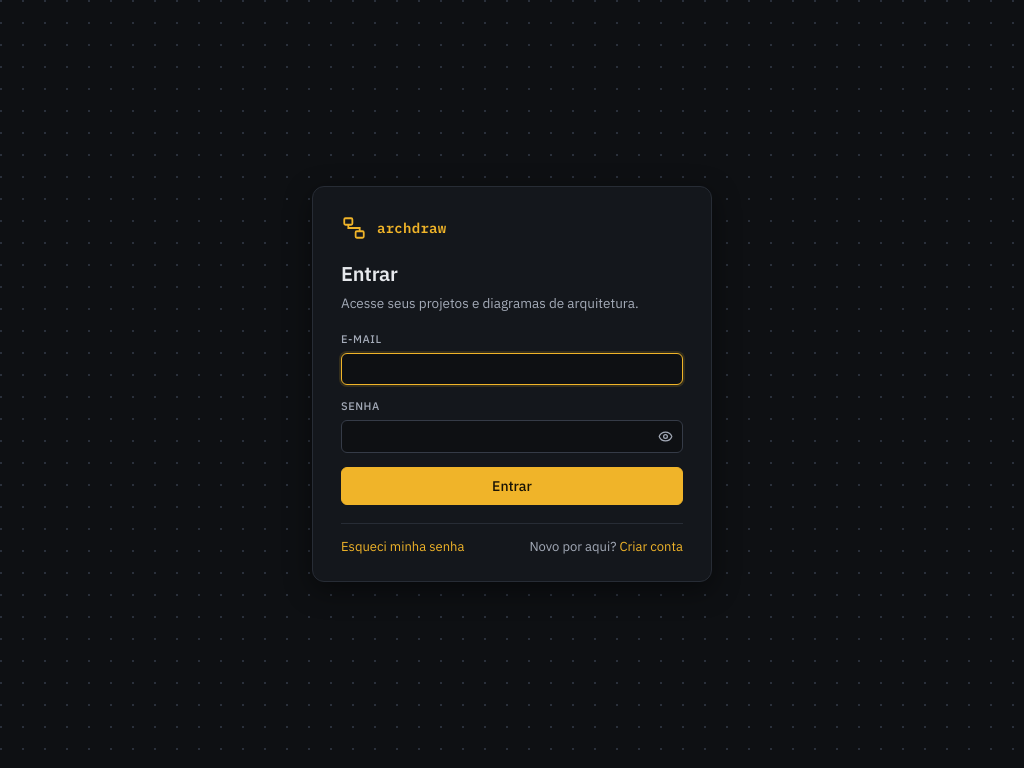
Login › mostra a mensagem da API para credenciais inválidas e permanece na tela
The image size is (1024, 768).
In the field labelled "E-mail": (512, 369) [341, 352, 683, 385], type "ana@teste.com"
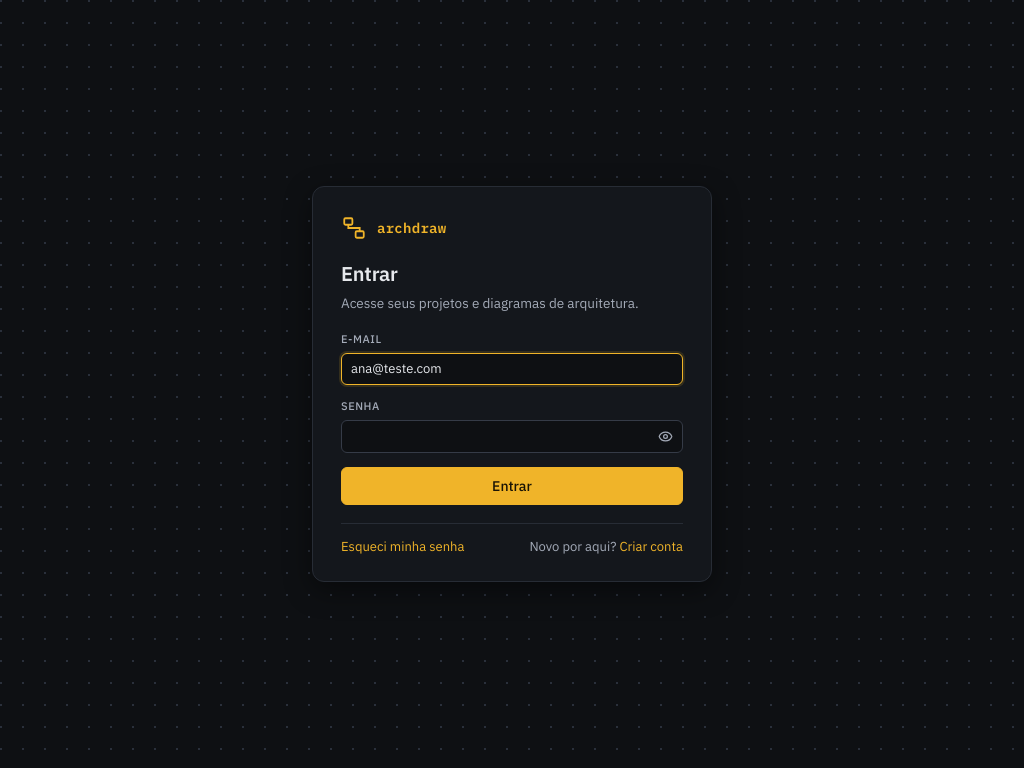
In the password field labelled "Senha": (512, 437) [341, 420, 683, 453], type "errada"
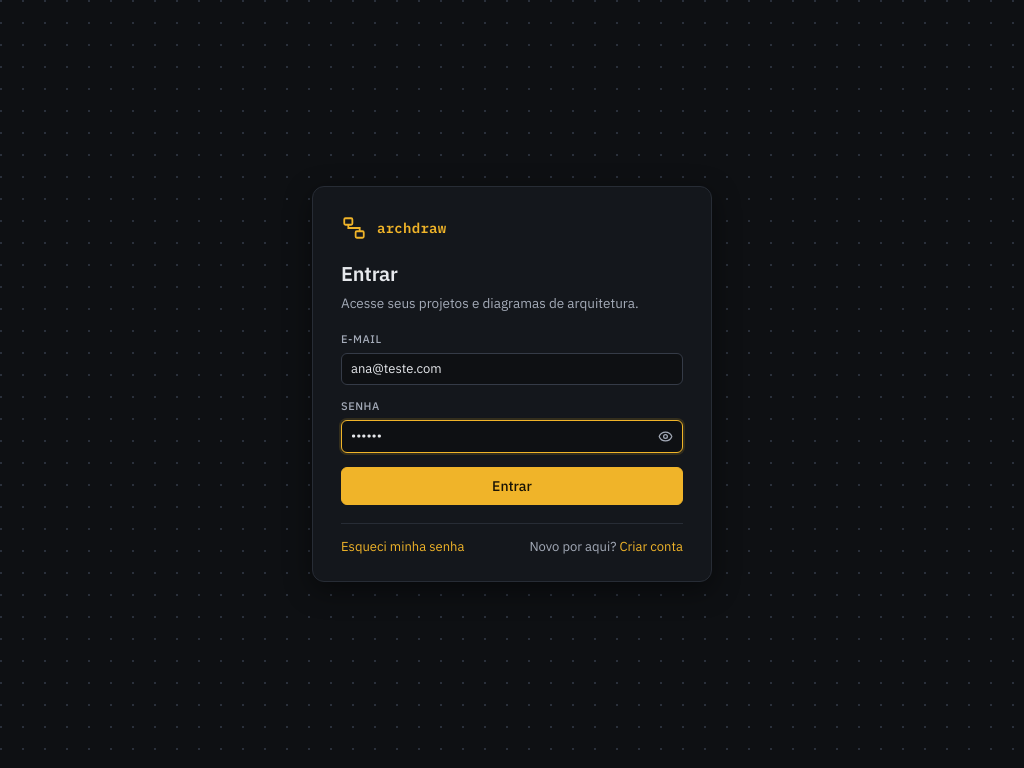
Click the button "Entrar": (512, 486) [341, 467, 683, 505]
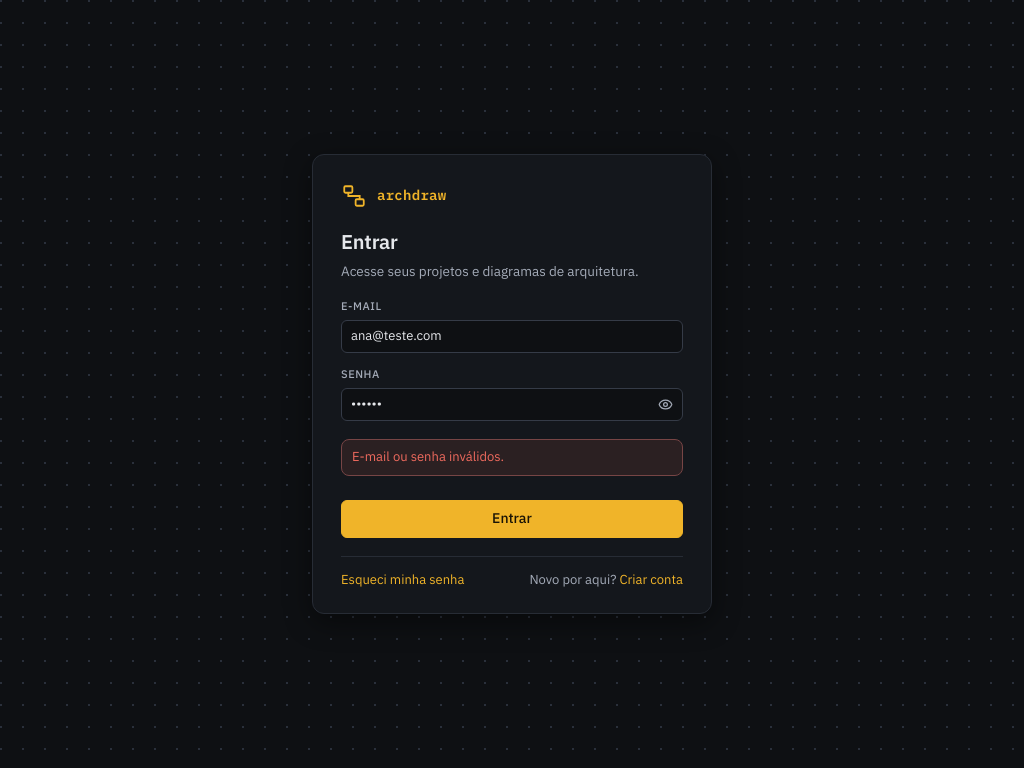
Expected: the message reads "E-mail ou senha inválidos.", [352, 448, 504, 465]
